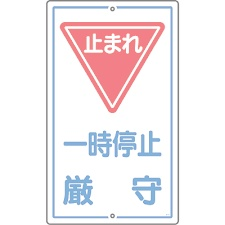Regulatory_sign_triangle: (60, 17, 166, 117)
